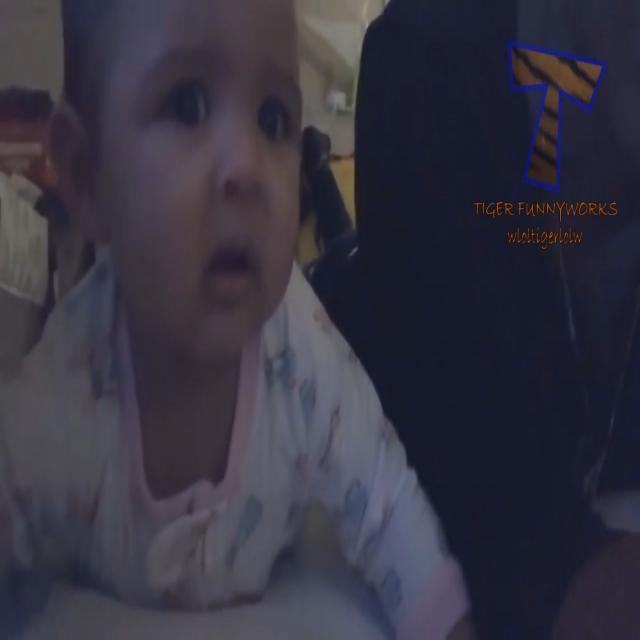safe: (17, 0, 352, 624)
